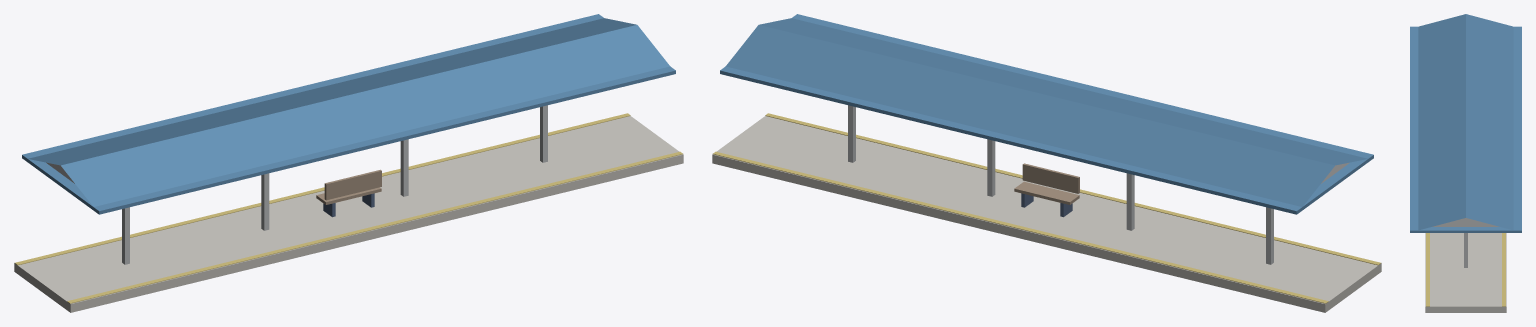
Rendered from 03_stations_3x3-06.glb.
3 views of the same model, side by side, from view 1: azimuth 30°, elevation 25°; view 2: azimuth 150°, elevation 25°; view 3: azimuth 270°, elevation 25° (orthographic). The views are drawn at different scales.
Bounding box in the file's own units: 22 × 4.2 × 4.8.
